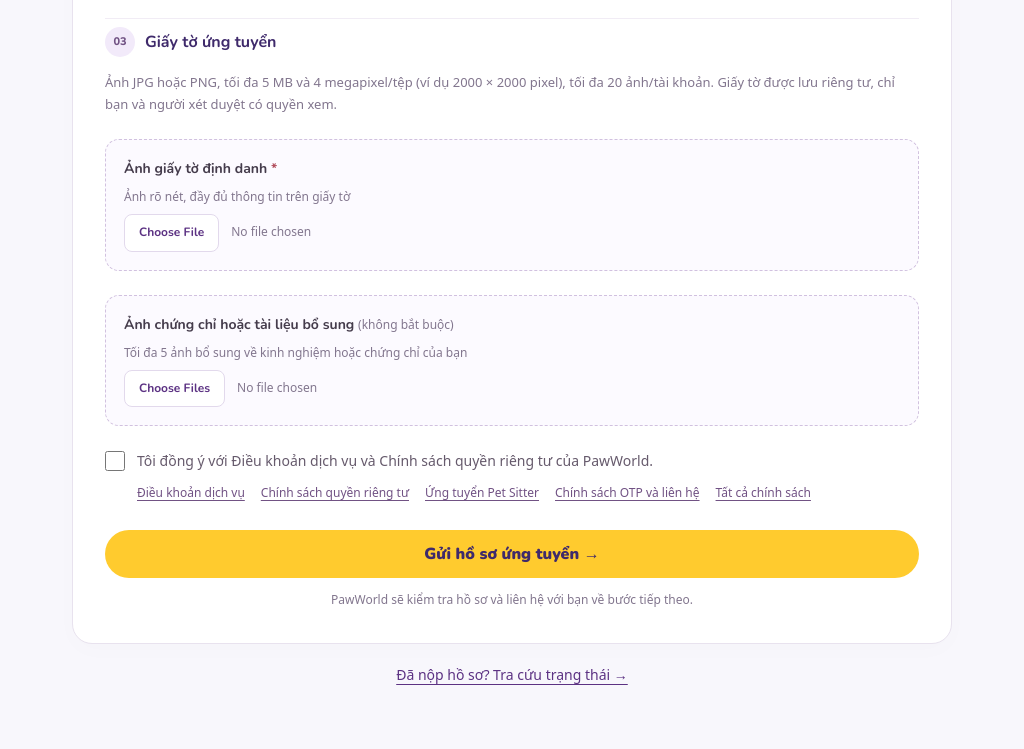
Test: employment preference is required and starts without a default choice
(page scrolled)
Step 1. Click the button "Gửi hồ sơ ứng tuyển →" → (512, 554), box [105,530,919,578]
(page scrolled)
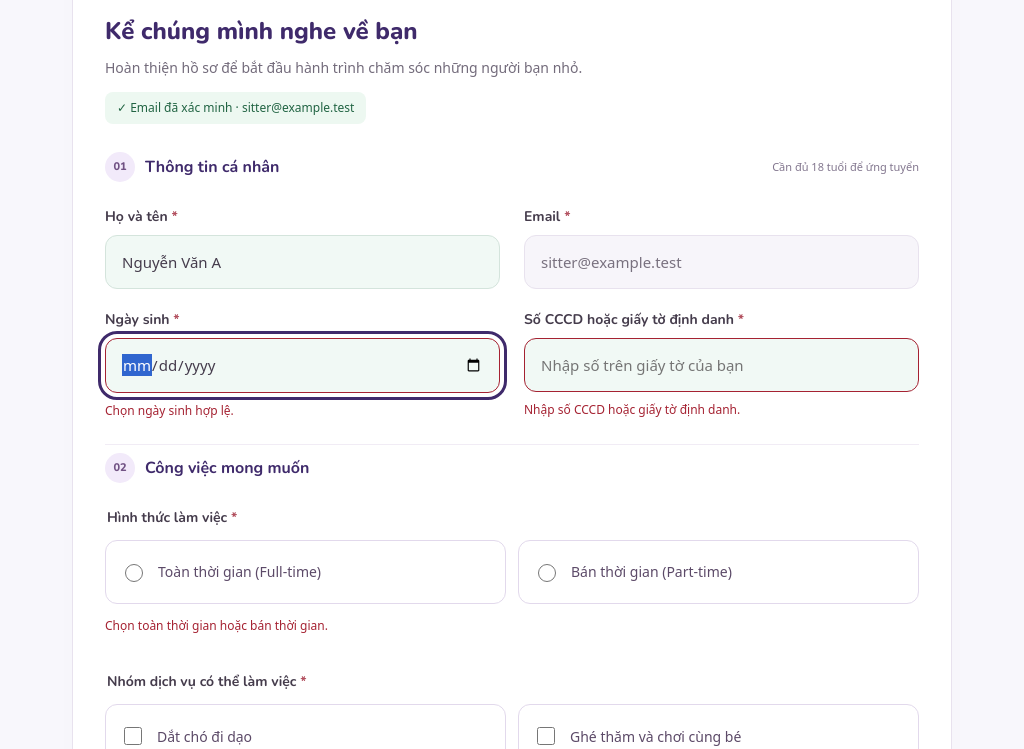
Now the text "Chọn toàn thời gian hoặc bán thời gian." is shown, box [105,617,328,634]
